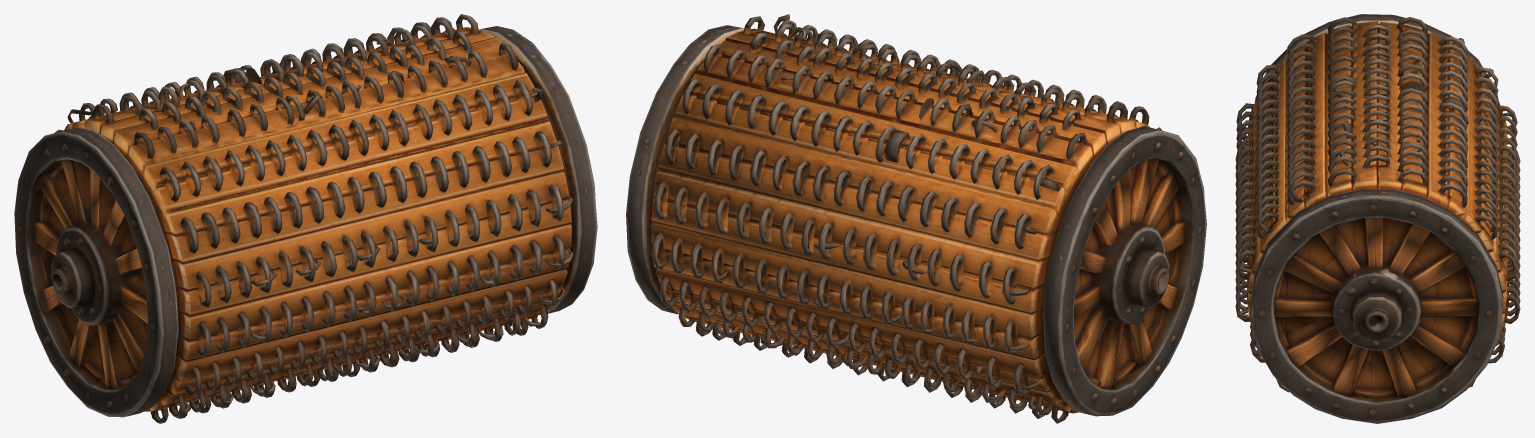
Rendered from tripo_convert_b09247a2-b23f-4559-9050-fac35b205f95.glb.
3 renders of one model, left to right at view 1: azimuth 30°, elevation 25°; view 2: azimuth 150°, elevation 25°; view 3: azimuth 270°, elevation 25°, orthographic. The views are drawn at different scales.
Parts seen in each view (by area): view 1: tripo_node_b09247a2-b23f-4559-9050-fac35b205f95; view 2: tripo_node_b09247a2-b23f-4559-9050-fac35b205f95; view 3: tripo_node_b09247a2-b23f-4559-9050-fac35b205f95.
Boxes of the visible parts, x1=… form: tripo_node_b09247a2-b23f-4559-9050-fac35b205f95: x1=14, y1=14, x2=597, y2=423; tripo_node_b09247a2-b23f-4559-9050-fac35b205f95: x1=626, y1=14, x2=1206, y2=423; tripo_node_b09247a2-b23f-4559-9050-fac35b205f95: x1=1235, y1=14, x2=1520, y2=423.
Size of the model in its own units: 0.9748 by 0.536 by 0.5665.
Materials: 1 (1 with a texture image).
